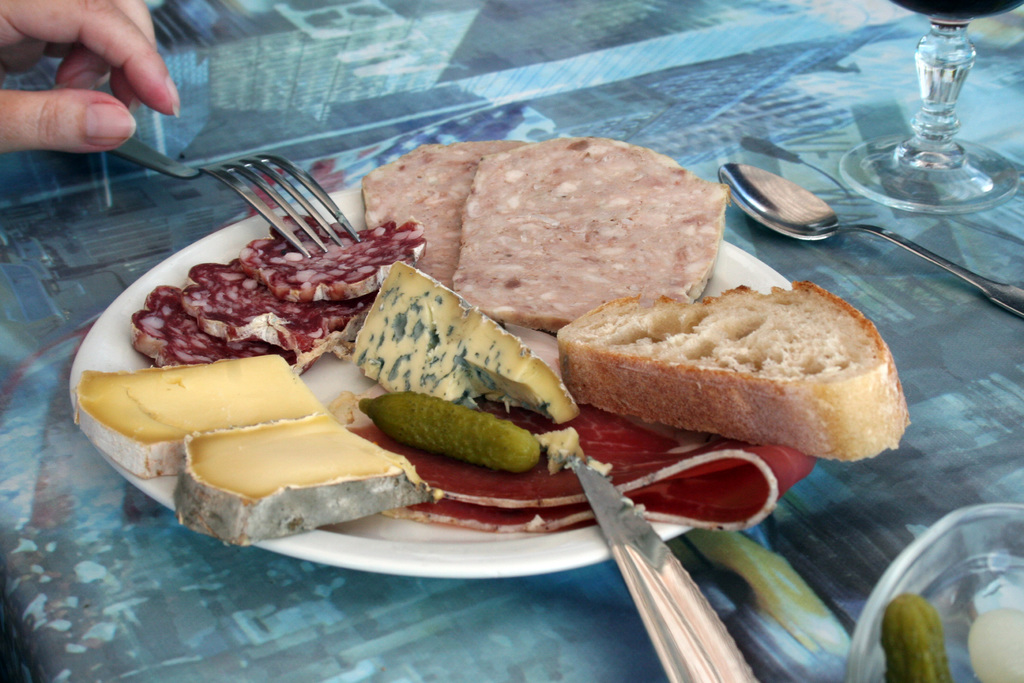sandwich: (564, 277, 912, 461), (456, 134, 739, 334), (353, 138, 525, 297)
